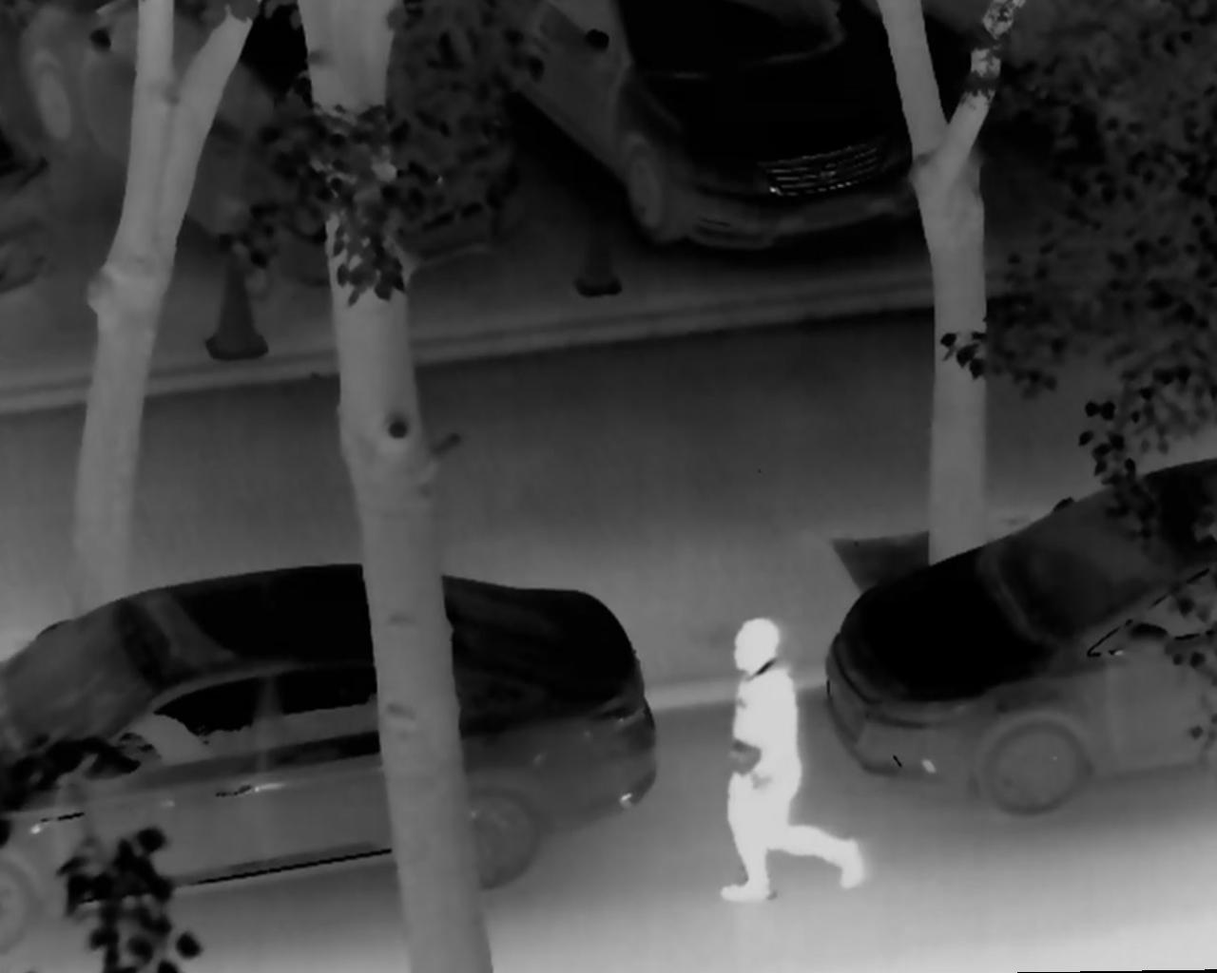person: (715, 618, 865, 906)
